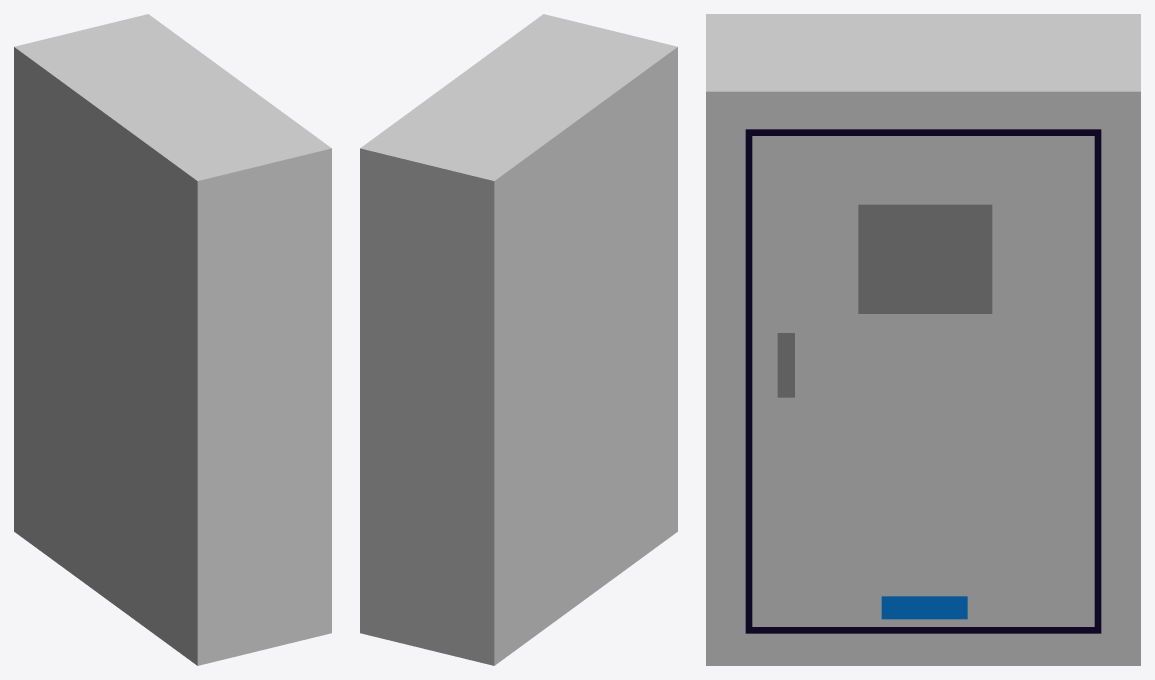
File: elecPanel.fbx
3 views of the same model, side by side, from view 1: azimuth 30°, elevation 25°; view 2: azimuth 150°, elevation 25°; view 3: azimuth 270°, elevation 25° (orthographic). The views are drawn at different scales.
Visible parts, largest first — view 1: elecPanel; view 2: elecPanel; view 3: elecPanel.
Part boxes in pixels (x1,y1,x2,y2): elecPanel: (14, 14, 331, 665); elecPanel: (360, 14, 677, 665); elecPanel: (706, 14, 1140, 665).
Size of the model in its own units: 4.28 by 14.28 by 9.8.
